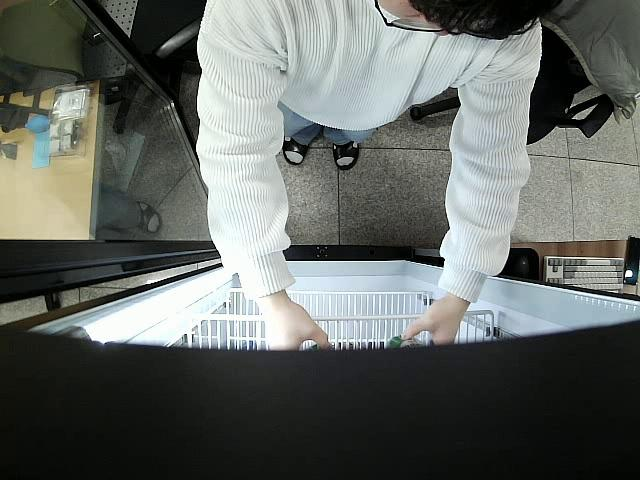00_hand: (266, 304, 329, 350), (402, 301, 468, 344)
